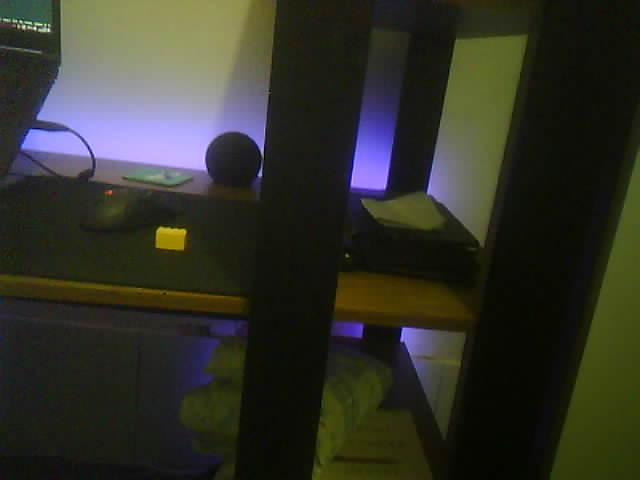lego: (154, 226, 188, 251)
